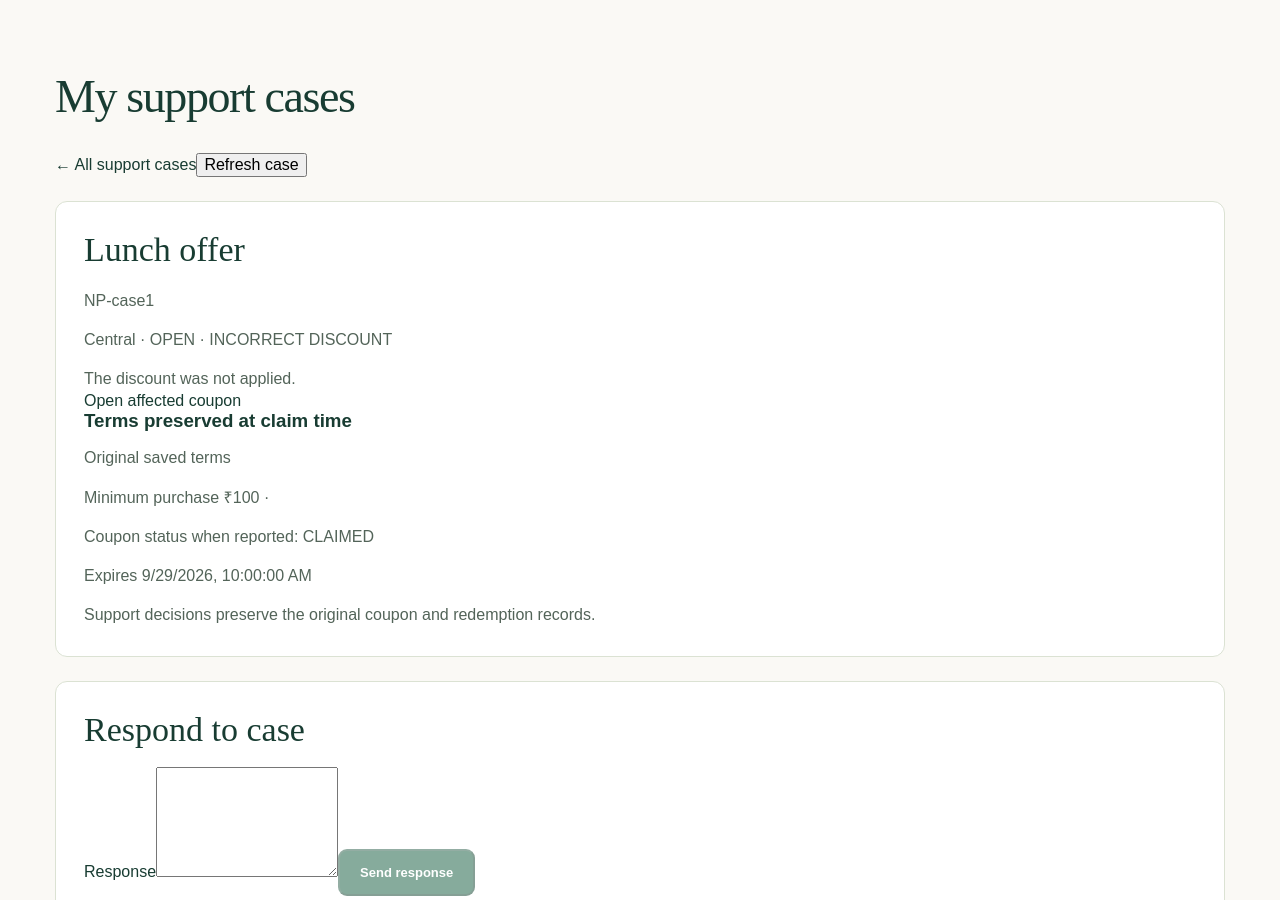
Test: hides cached private case details after a failed refresh
Expected: the text "Original saved terms" is shown, [84,449,231,466]
Click the button "Refresh case".
click(252, 165)  # box [196,153,307,177]
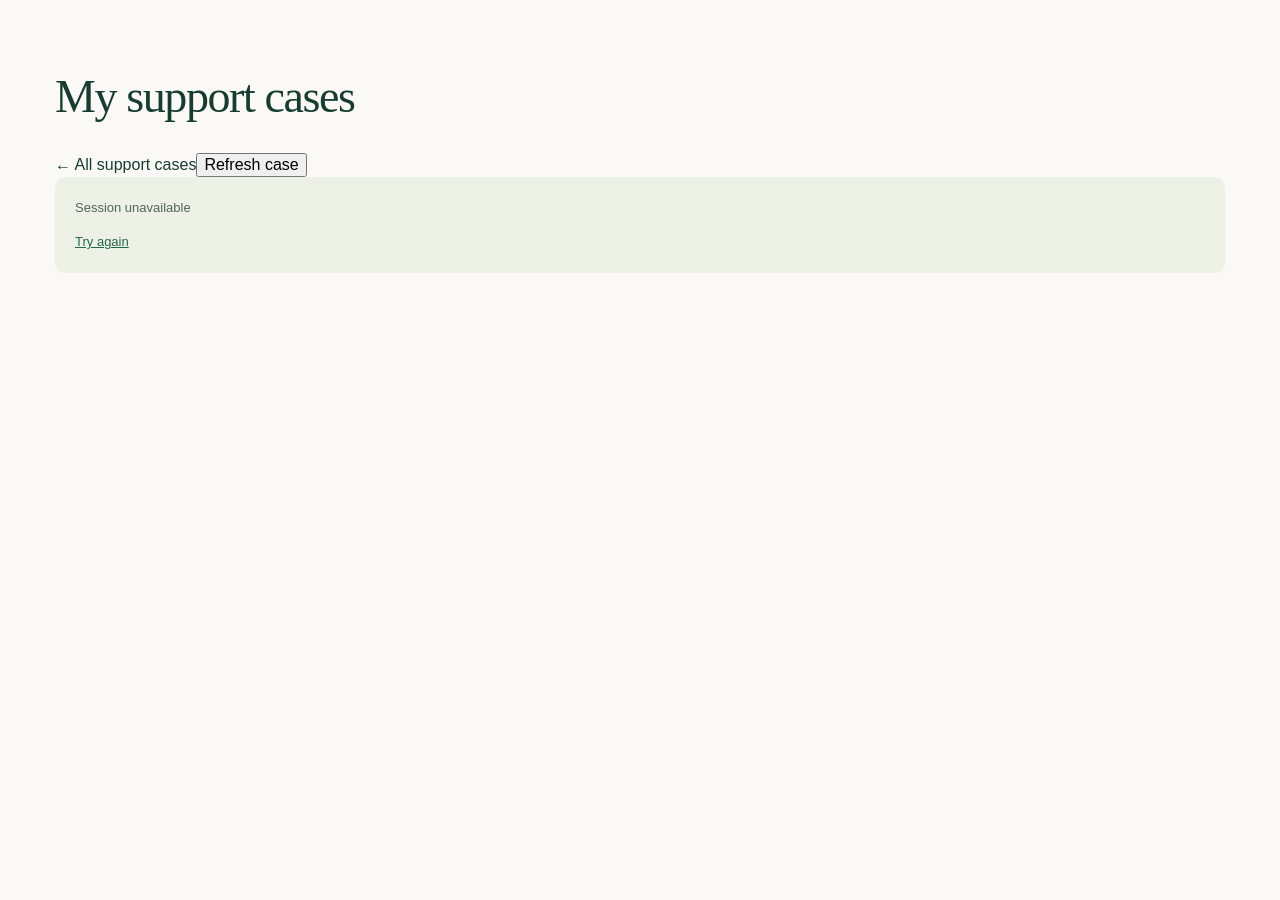
Now the text "Session unavailable" is shown, box [75,200,191,215]
Now the text "Original saved terms" is gone
